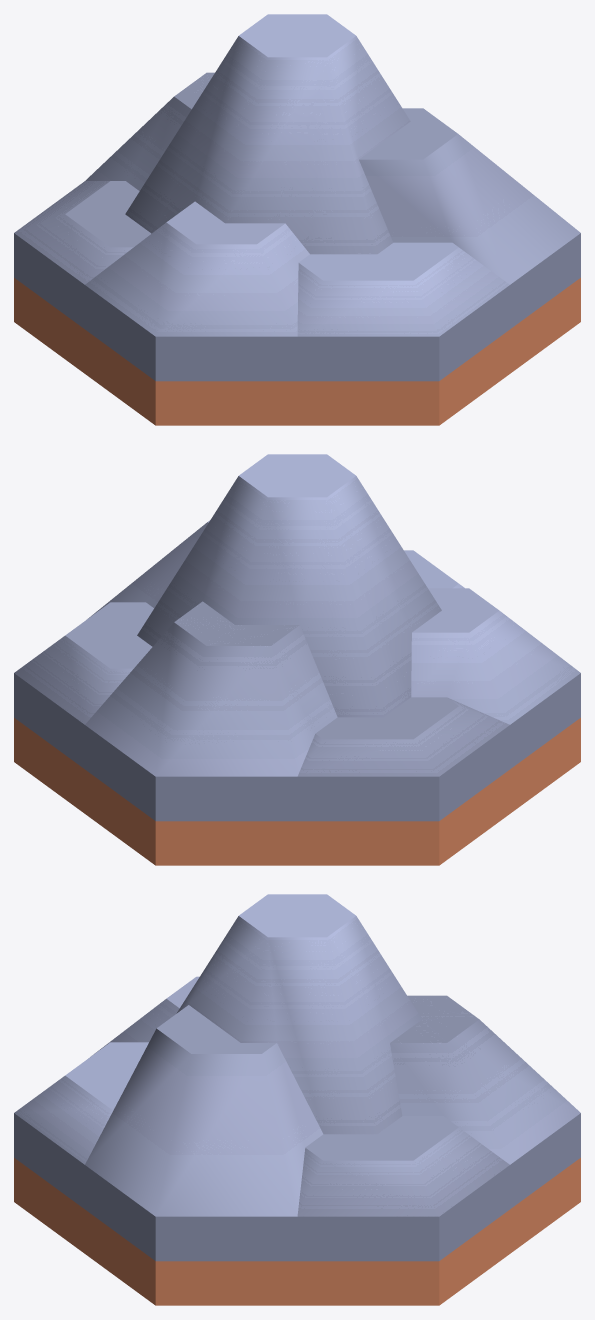
File: stone-hill.glb
3 renders of one model, top to bottom at view 1: azimuth 30°, elevation 25°; view 2: azimuth 150°, elevation 25°; view 3: azimuth 270°, elevation 25°, orthographic.
Visible parts, largest first — view 1: stone-hill; view 2: stone-hill; view 3: stone-hill.
Boxes of the visible parts, bbox=[...] form: stone-hill: bbox=[14, 14, 580, 425]; stone-hill: bbox=[14, 454, 580, 865]; stone-hill: bbox=[14, 894, 580, 1305].
Bounding box in the file's own units: 10 × 6.43 × 11.55.
1 material, 1 textured.
